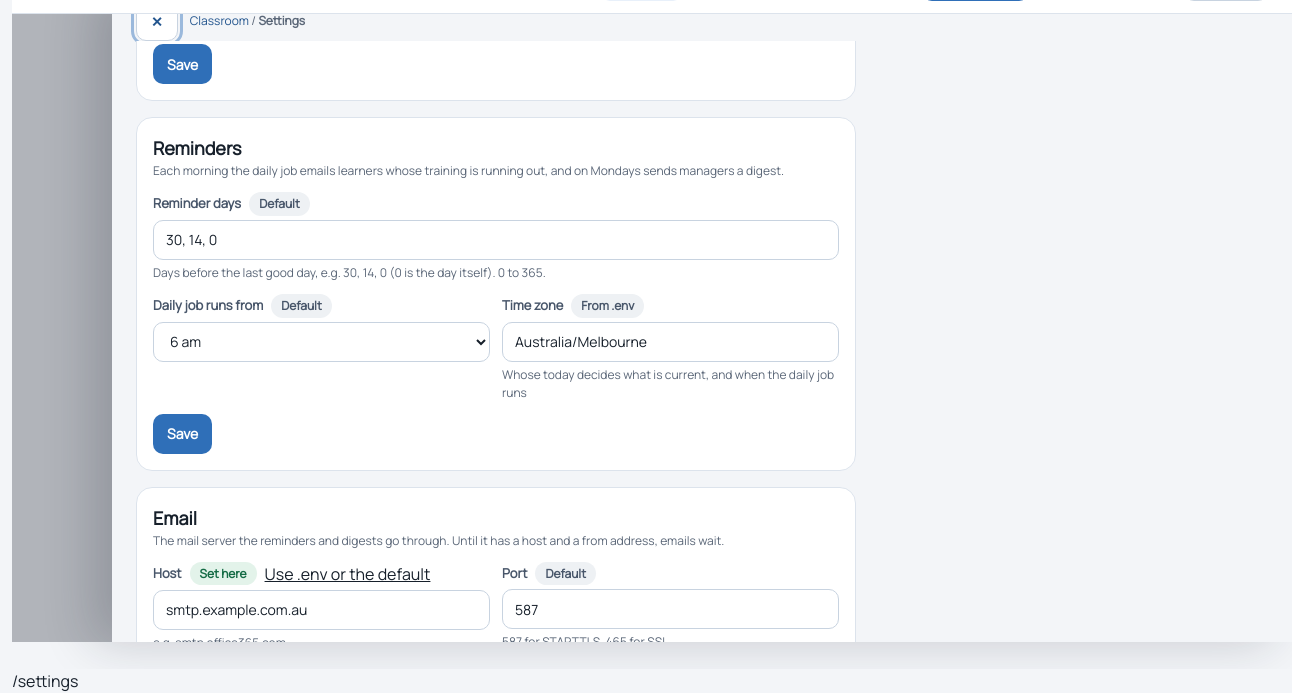
Test: settings › shows the API's problem on its field
(page scrolled)
Replace the text in the field labelled "Time zone" with "Australia/Ballarat": (670, 342) [502,322,839,362]
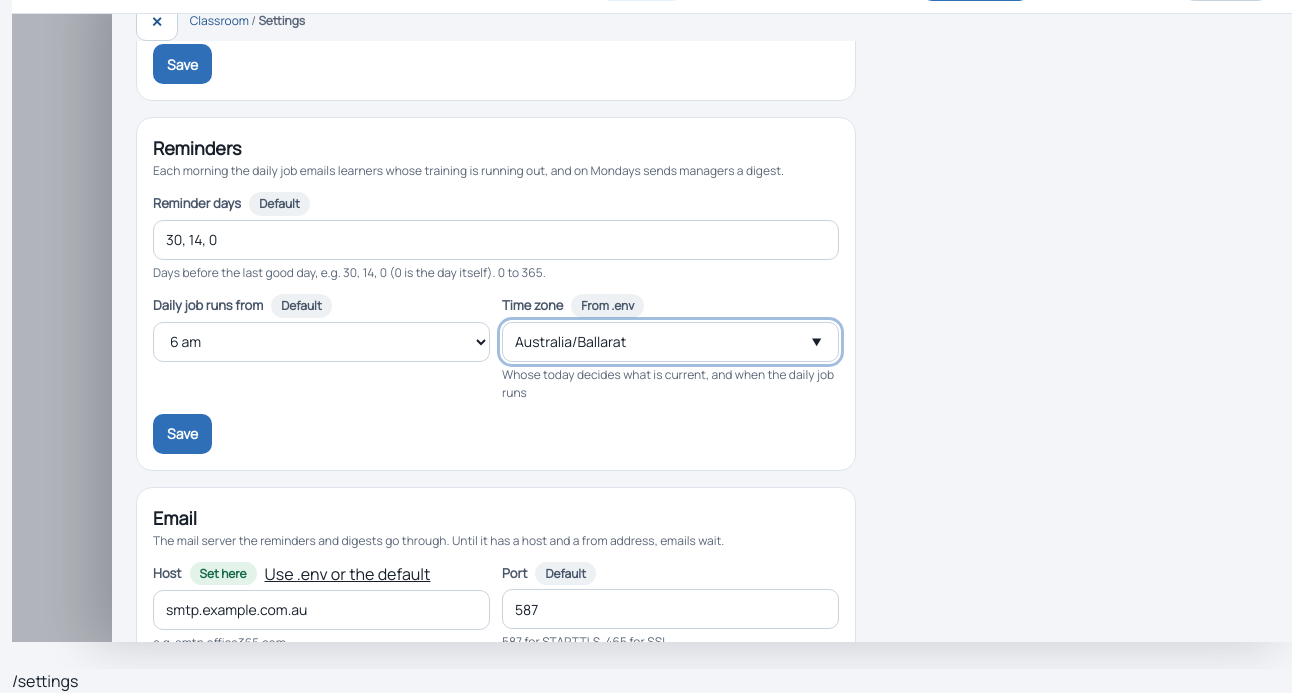
Click the button "Save" below "Daily job runs from": (183, 434) [153,414,212,454]
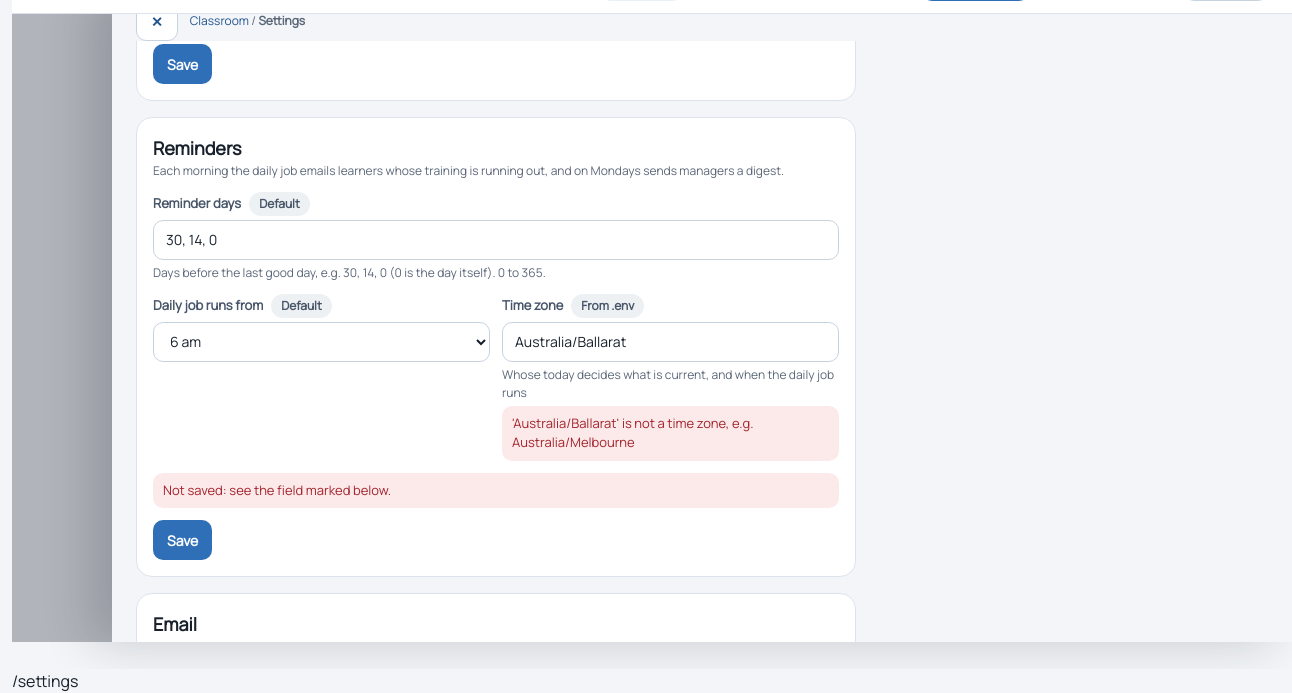
expect the text "'Australia/Ballarat' is not a time zone, e.g. Australia/Melbourne" is shown: met, box [502,406,839,461]
